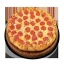pizza: (7, 7, 60, 54)
